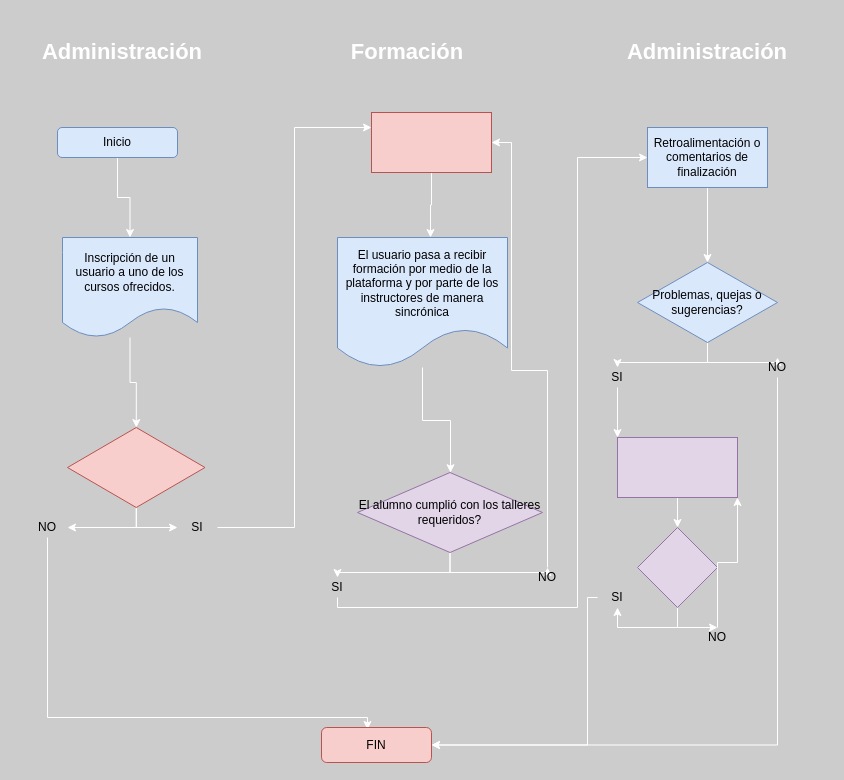
The diagram is 844 pixels wide and 780 high, and some of its shapes have lost their labels. The shapes that lost their labels are listed below. From the top down, each one's centre as x and y in pixels, then its label:
At (431,142): "Contacto con el instructor asigado".
At (135,467): "Es valido la inscripción".
At (677,467): "QUEJAS Y SUGENRECIAS".
At (677,567): "Se solucionó?".
